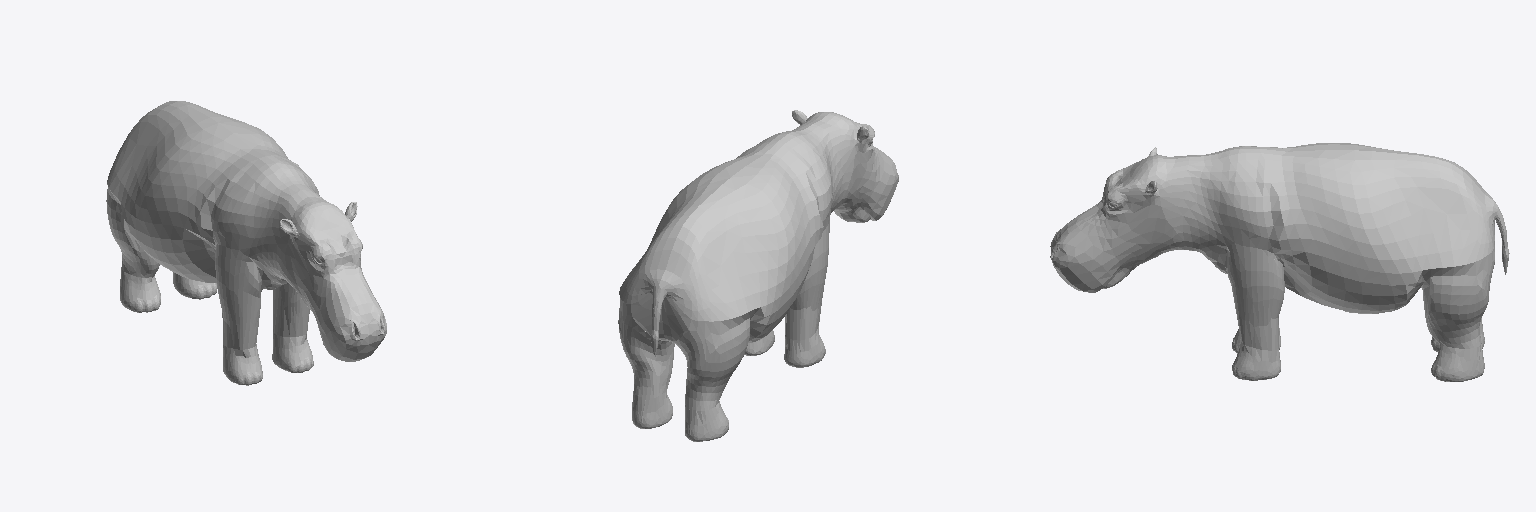
The model's file is HIPPO.OBJ.
The picture shows the model from 3 angles: view 1: azimuth 30°, elevation 25°; view 2: azimuth 150°, elevation 25°; view 3: azimuth 270°, elevation 25°; orthographic projection.
Parts seen in each view (by area): view 1: hippo_body; view 2: hippo_body; view 3: hippo_body.
Part boxes in pixels (x1,y1,x2,y2): hippo_body: (106, 101, 386, 385); hippo_body: (618, 110, 898, 441); hippo_body: (1050, 143, 1509, 381).
Bounding box in the file's own units: 1.16 × 1.78 × 3.45.